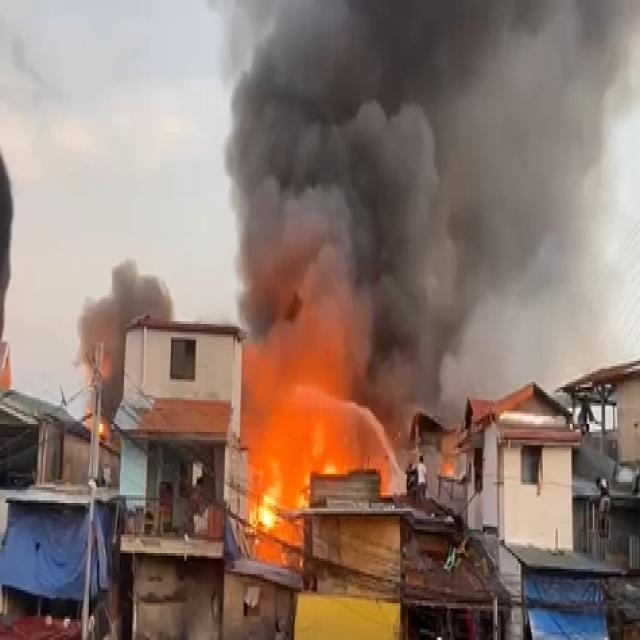Fire: (255, 434, 298, 555)
Smoke: (236, 8, 640, 322), (247, 302, 467, 388)
